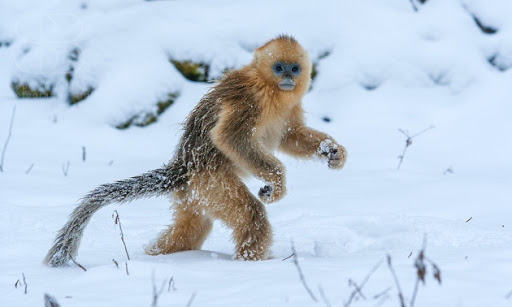GoldenSnub-Nosed: (82, 31, 346, 277)
